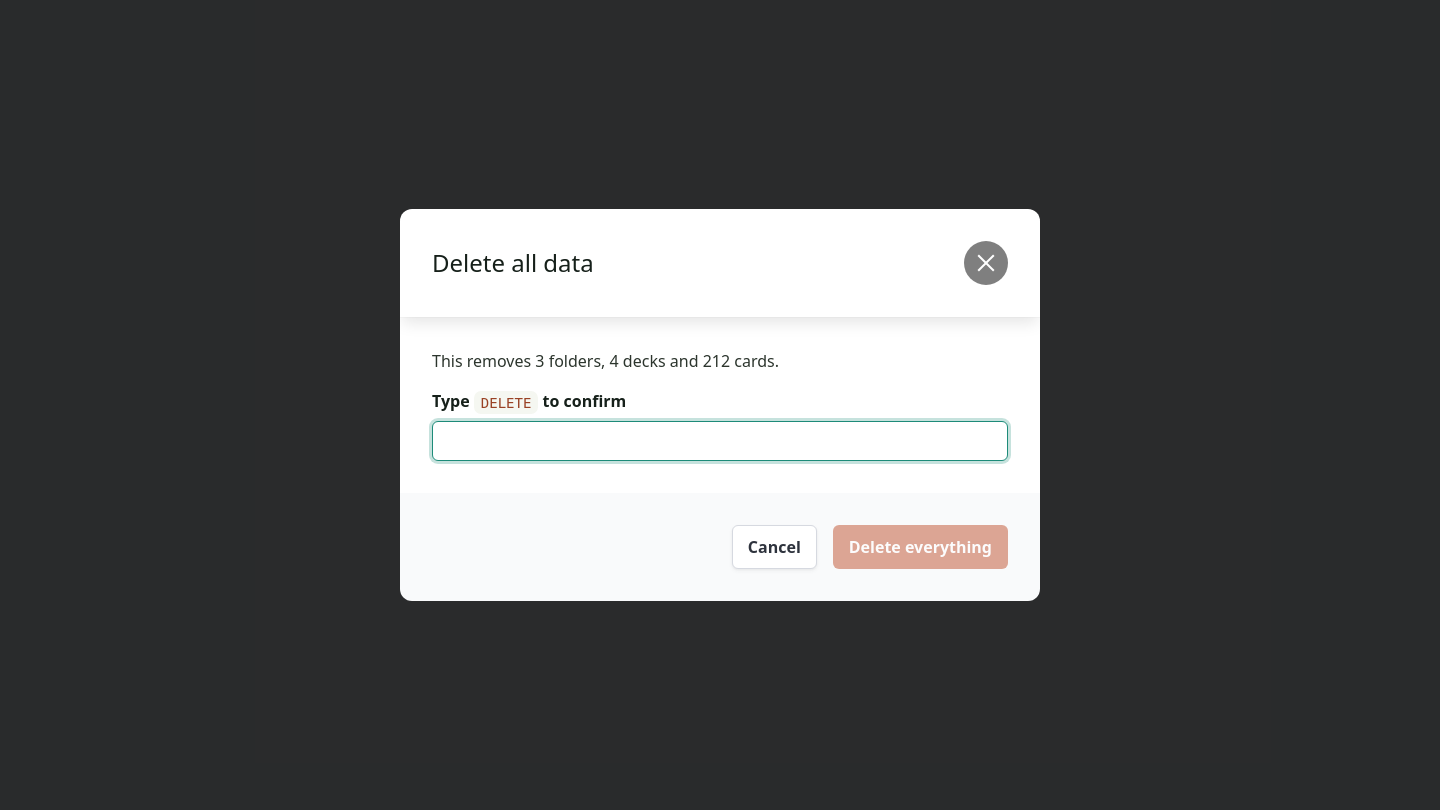
Scenario: TypedConfirmDialog › ignores whitespace around what was typed
This screenshot has width=1440, height=810.
In the field with test id "typed-confirm-input": (720, 441) [432,421,1008,461], type "  DELETE "
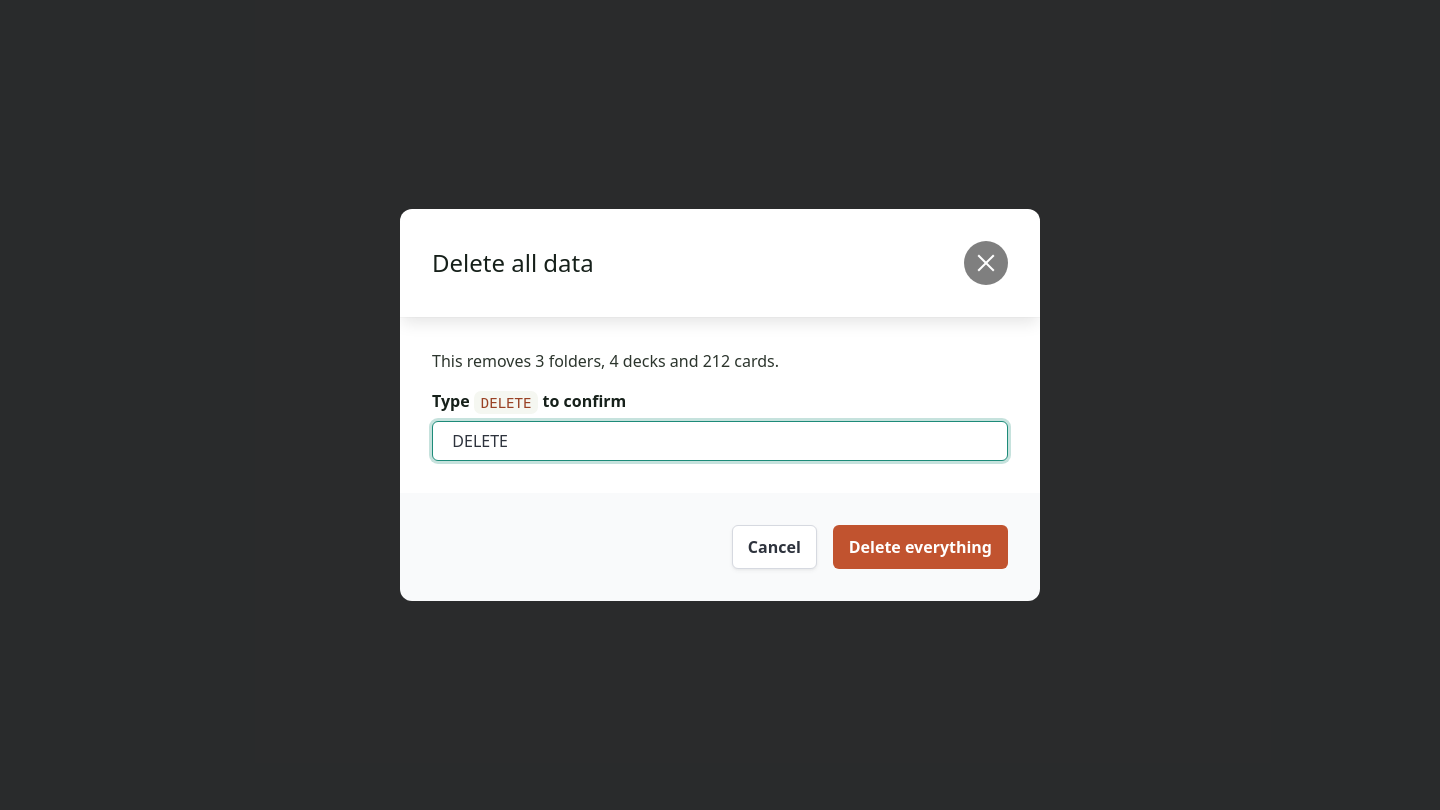
Check: the button with test id "typed-confirm-accept" is enabled, box [833,525,1008,569]
